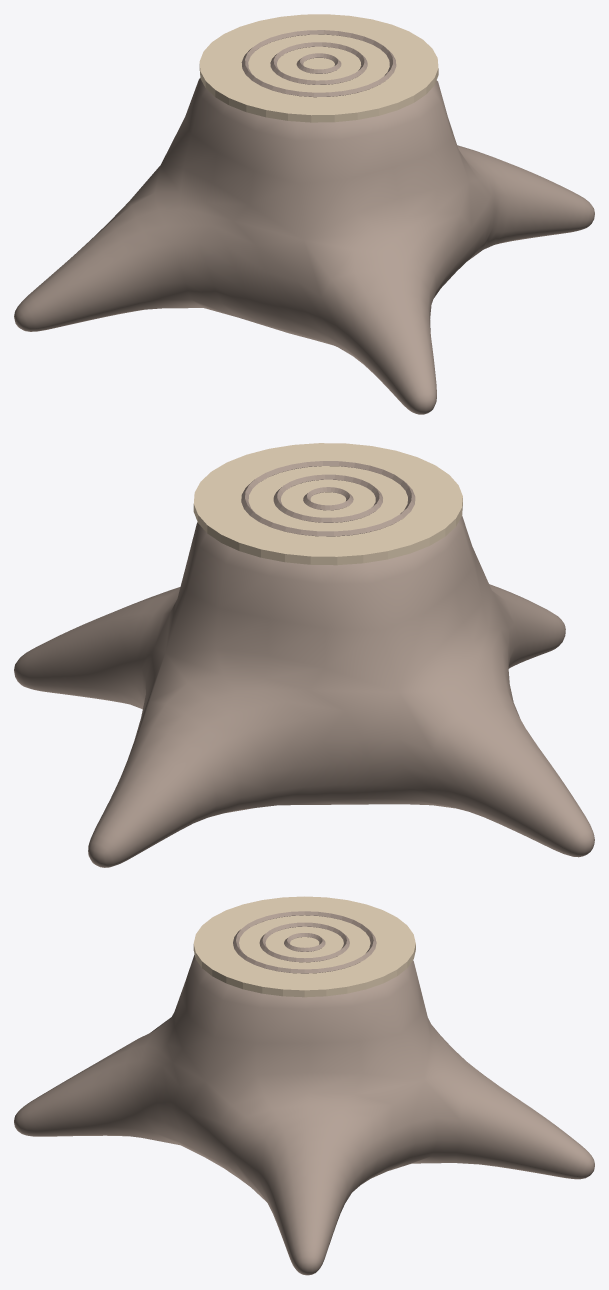
Rendered from stump.glb.
The picture shows the model from 3 angles, top to bottom: view 1: azimuth 30°, elevation 25°; view 2: azimuth 150°, elevation 25°; view 3: azimuth 270°, elevation 25°; orthographic projection. The views are drawn at different scales.
Visible parts, largest first — view 1: trunk, cut, trunk_ring_0, trunk_ring_1; view 2: trunk, cut, trunk_ring_0, trunk_ring_1, trunk_ring_2; view 3: trunk, cut, trunk_ring_0, trunk_ring_1.
Boxes of the visible parts, <box> form: trunk: <box>14,78,594,414</box>; cut: <box>199,14,438,122</box>; trunk_ring_0: <box>241,30,396,97</box>; trunk_ring_1: <box>270,42,367,84</box>; trunk: <box>14,515,594,867</box>; cut: <box>193,443,462,565</box>; trunk_ring_0: <box>241,461,415,536</box>; trunk_ring_1: <box>273,474,382,522</box>; trunk_ring_2: <box>303,487,353,510</box>; trunk: <box>14,954,594,1275</box>; cut: <box>193,896,415,997</box>; trunk_ring_0: <box>233,911,376,973</box>; trunk_ring_1: <box>259,922,349,962</box>.
Size of the model in its own units: 1.54 by 0.6251 by 1.53.
